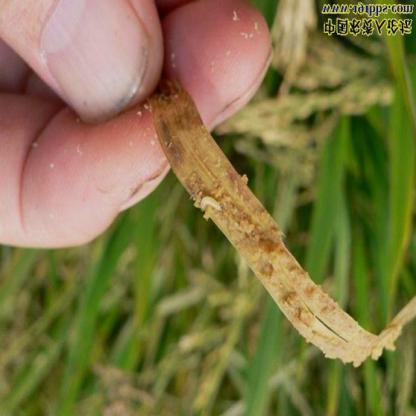whorl-maggot: (200, 192, 228, 222)
